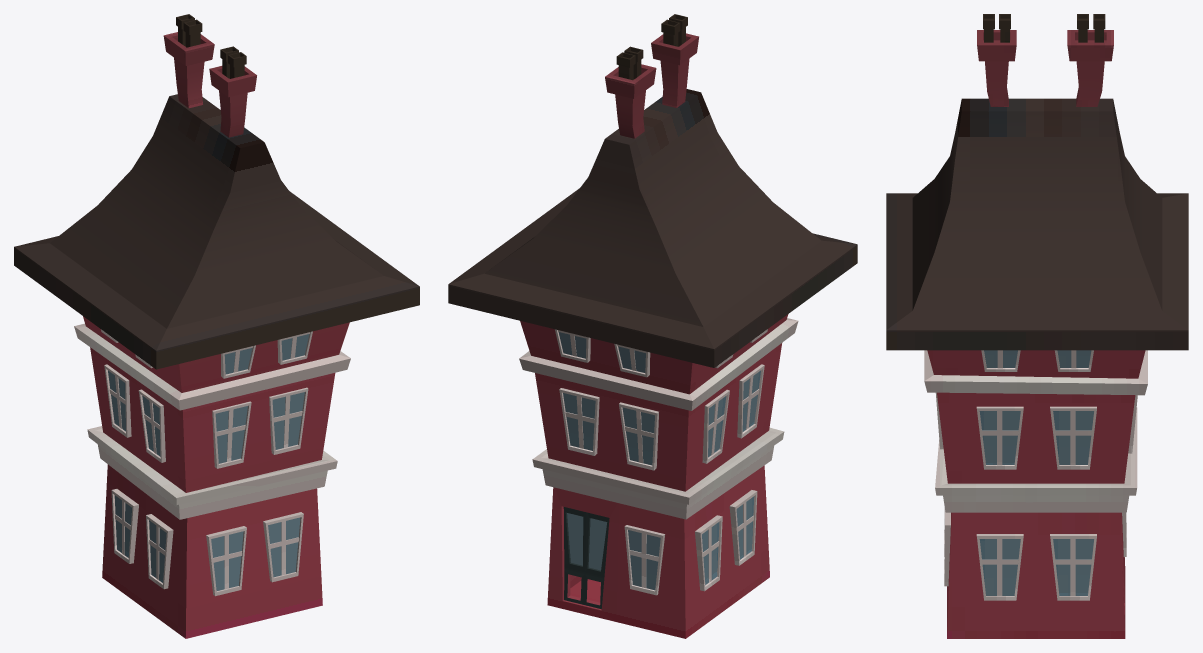
Rendered from House.fbx.
3 views of the same model, side by side, from view 1: azimuth 30°, elevation 25°; view 2: azimuth 150°, elevation 25°; view 3: azimuth 270°, elevation 25° (orthographic). The views are drawn at different scales.
Visible parts, largest first — view 1: polySurface47; view 2: polySurface47; view 3: polySurface47.
Part boxes in pixels (x1,y1,x2,y2): polySurface47: [14, 14, 419, 638]; polySurface47: [448, 14, 857, 638]; polySurface47: [886, 14, 1188, 638].
Bounding box in the file's own units: 19.38 × 38.74 × 18.09.
